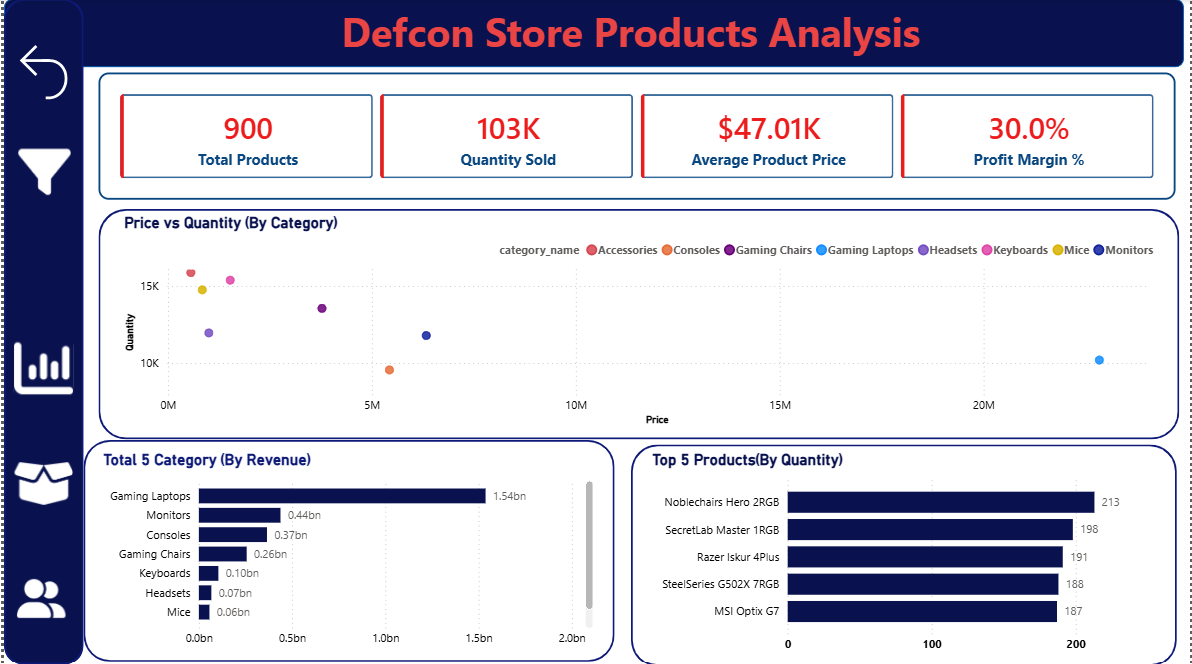

This screenshot's page, from the dashboard's own definition file:
{"tool":"powerbi","page":{"name":"Product Analysis","canvas":[1280,720],"ordinal":3},"visuals":[{"type":"shape","box":[0,0,85.8,719.4],"z":0,"group":"g3"},{"type":"shape","box":[101.2,226.5,1166.8,248.8],"z":0},{"type":"shape","box":[85.3,475.7,573.3,239.6],"z":0,"group":"g1"},{"type":"shape","box":[676,480.4,589.1,240.2],"z":0,"group":"g2"},{"type":"shape","box":[0,0,1273.7,73.7],"z":1000},{"type":"actionButton","box":[11.3,152.4,64.8,68.8],"z":1000,"group":"g3"},{"type":"barChart","title":"Total 5 Category (By Revenue)","fields":{"Category":["categories.category_name"],"Y":["Sum(sale_items.price_at_sale)"]},"box":[100.9,487,538.6,220.2],"z":1000,"group":"g1"},{"type":"barChart","title":"Top 5 Products(By Quantity)","fields":{"Category":["products.product_name"],"Y":["Measure Tables.Quantity Sold"]},"box":[694.4,487.3,555.7,226.5],"z":1000,"group":"g2"},{"type":"actionButton","box":[4.9,42.6,76.1,73.7],"z":2000,"group":"g3"},{"type":"cardVisual","fields":{"Data":["Measure Tables.Total Products","Measure Tables.Quantity Sold","Measure Tables.Average Product Price","Measure Tables.Profit Margin %"]},"box":[101.9,79.7,1162.6,137.3],"z":2000},{"type":"group","id":"g1","title":"Group 2","box":[85.3,475.7,571.7,241.1],"z":3000},{"type":"actionButton","box":[0,487.9,85.3,71.2],"z":3000,"group":"g3"},{"type":"group","id":"g2","title":"Group 1","box":[676,480.4,588.5,240.2],"z":4000},{"type":"actionButton","box":[0,617.5,81.1,60.5],"z":4000,"group":"g3"},{"type":"scatterChart","title":"Price vs Quantity (By Category)","fields":{"X":["Sum(products.price)"],"Y":["Sum(sale_items.quantity)"],"Series":["categories.category_name"]},"box":[125.3,231.6,1125.6,233.4],"z":5000},{"type":"group","id":"g3","title":"Ribbon","box":[0,0,85.8,720.6],"z":6000},{"type":"actionButton","box":[0,362,85.8,72.1],"z":8000},{"type":"textbox","box":[120.1,0,1113.6,85.8],"z":9000}]}

Visuals, with their boxes on the page's 1280x720 design canvas (x1, y1, x2, y2). These are canvas units, not pixel positions in the 1192x664 screenshot, which may show the page scaled, cropped or inside an application window:
shape: select_region(0, 0, 86, 719)
shape: select_region(101, 226, 1268, 475)
shape: select_region(85, 476, 659, 715)
shape: select_region(676, 480, 1265, 721)
shape: select_region(0, 0, 1274, 74)
actionButton: select_region(11, 152, 76, 221)
"Total 5 Category (By Revenue)" barChart: select_region(101, 487, 640, 707)
"Top 5 Products(By Quantity)" barChart: select_region(694, 487, 1250, 714)
actionButton: select_region(5, 43, 81, 116)
cardVisual - Measure Tables.Total Products x Measure Tables.Quantity Sold: select_region(102, 80, 1264, 217)
"Group 2" group: select_region(85, 476, 657, 717)
actionButton: select_region(0, 488, 85, 559)
"Group 1" group: select_region(676, 480, 1264, 721)
actionButton: select_region(0, 618, 81, 678)
"Price vs Quantity (By Category)" scatterChart: select_region(125, 232, 1251, 465)
"Ribbon" group: select_region(0, 0, 86, 721)
actionButton: select_region(0, 362, 86, 434)
textbox: select_region(120, 0, 1234, 86)
